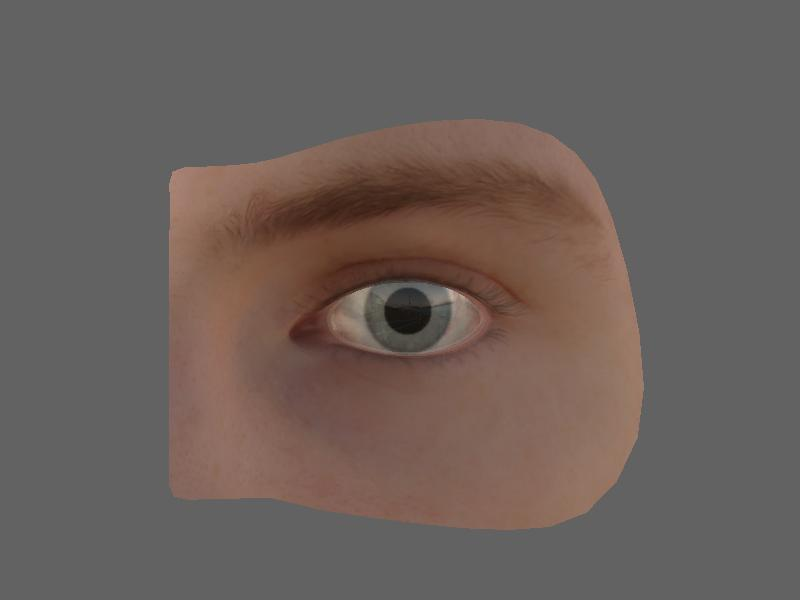iris: (366, 278, 455, 355)
